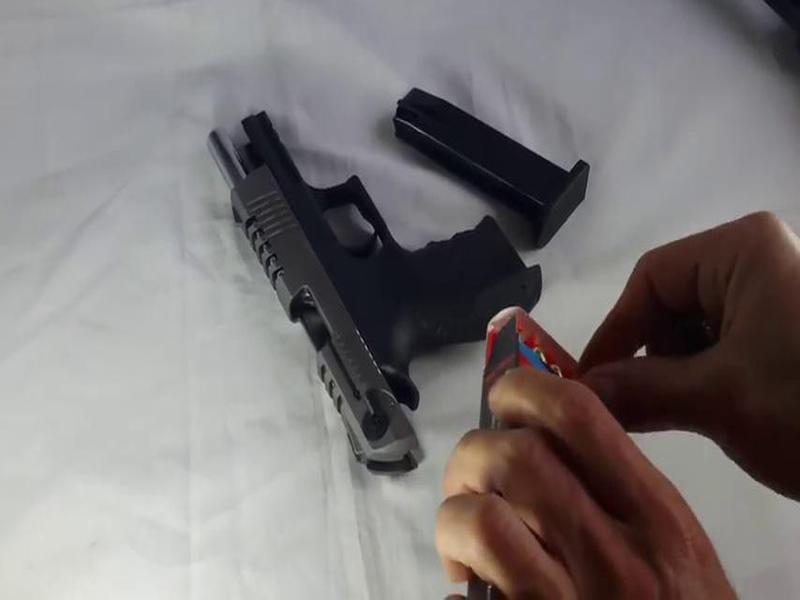Pistola: (205, 109, 547, 472)
